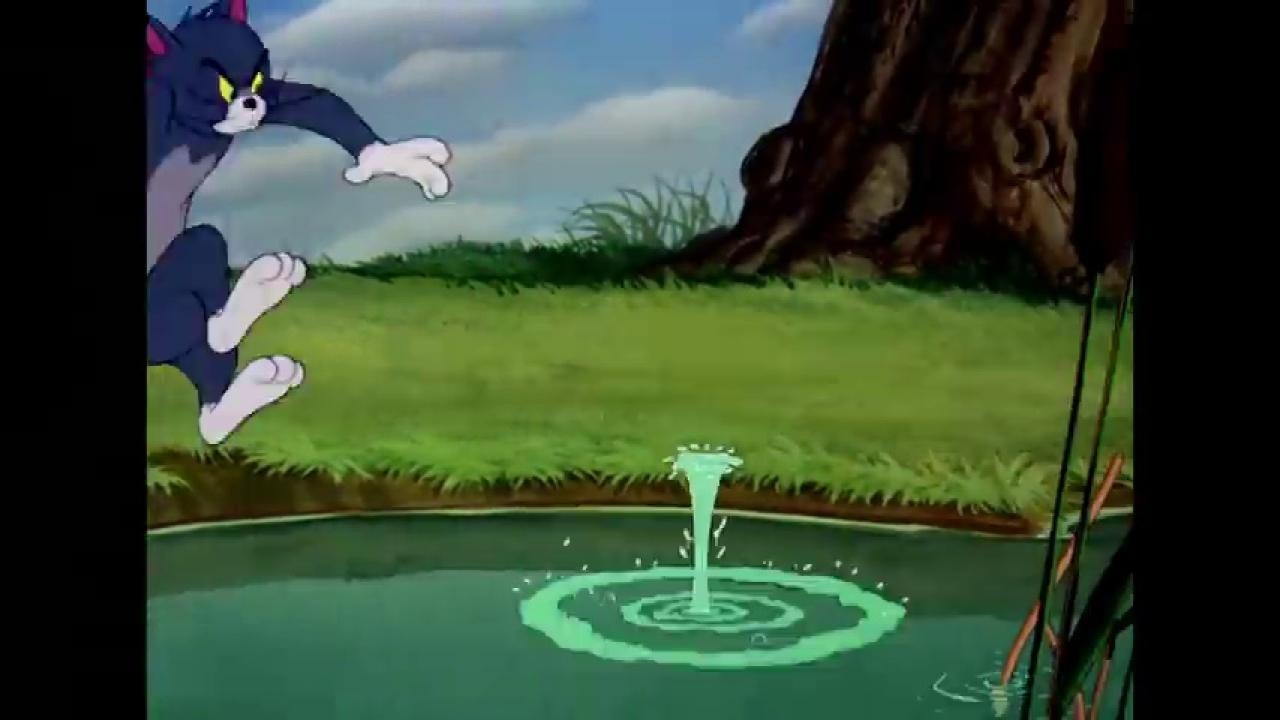Tom: (149, 0, 455, 450)
